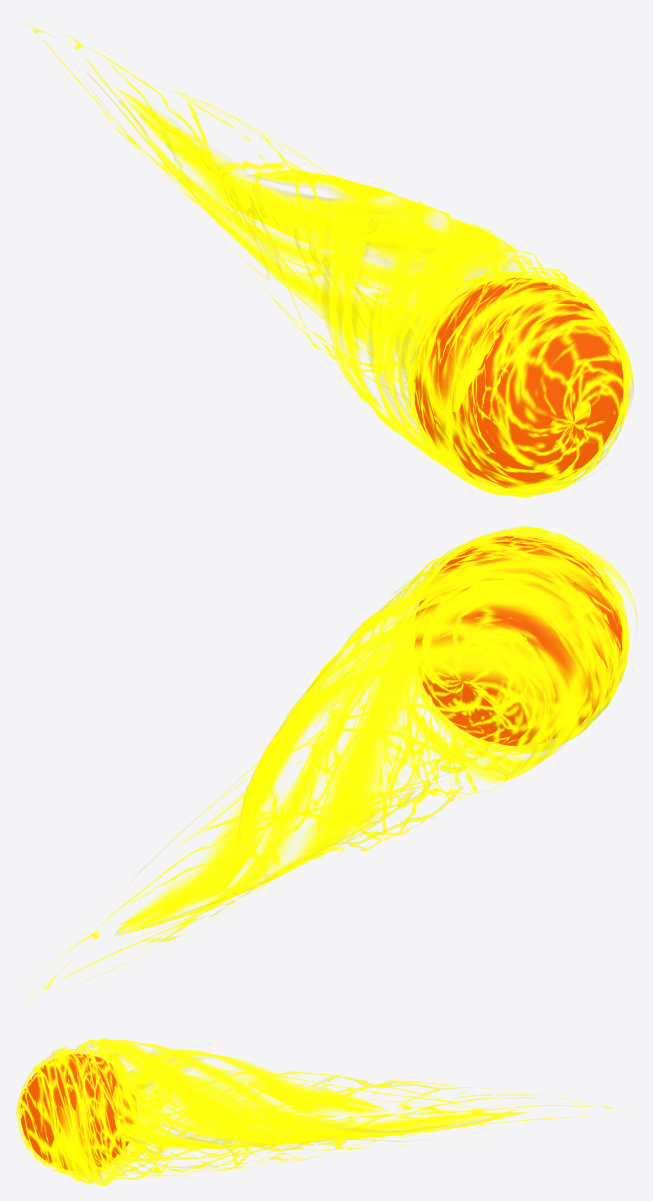
Rendered from Fireball.glb.
The picture shows the model from 3 angles, top to bottom: view 1: azimuth 30°, elevation 25°; view 2: azimuth 150°, elevation 25°; view 3: azimuth 270°, elevation 25°; orthographic projection. The views are drawn at different scales.
Parts seen in each view (by area): view 1: Sphere.004, Sphere, Sphere.005, Sphere.002, Sphere.001, Sphere.003; view 2: Sphere.004, Sphere.005, Sphere, Sphere.002, Sphere.003, Sphere.001; view 3: Sphere.004, Sphere.005, Sphere, Sphere.002, Sphere.001, Sphere.003.
Boxes of the visible parts, x1,y1,x2,y2 form: Sphere.004: [114, 87, 623, 467]; Sphere: [414, 277, 623, 487]; Sphere.005: [22, 21, 628, 463]; Sphere.002: [407, 271, 629, 497]; Sphere.001: [410, 273, 627, 493]; Sphere.003: [397, 277, 633, 475]; Sphere.004: [113, 540, 627, 936]; Sphere.005: [28, 536, 630, 1000]; Sphere: [415, 535, 622, 746]; Sphere.002: [411, 526, 629, 754]; Sphere.003: [413, 534, 637, 746]; Sphere.001: [411, 531, 628, 751]; Sphere.004: [17, 1038, 528, 1186]; Sphere.005: [40, 1045, 624, 1180]; Sphere: [20, 1053, 136, 1170]; Sphere.002: [16, 1049, 140, 1175]; Sphere.001: [17, 1053, 139, 1171]; Sphere.003: [50, 1046, 139, 1178].
Bounding box in the file's own units: 2.53 × 2.3 × 10.63.
2 materials, 1 textured.
